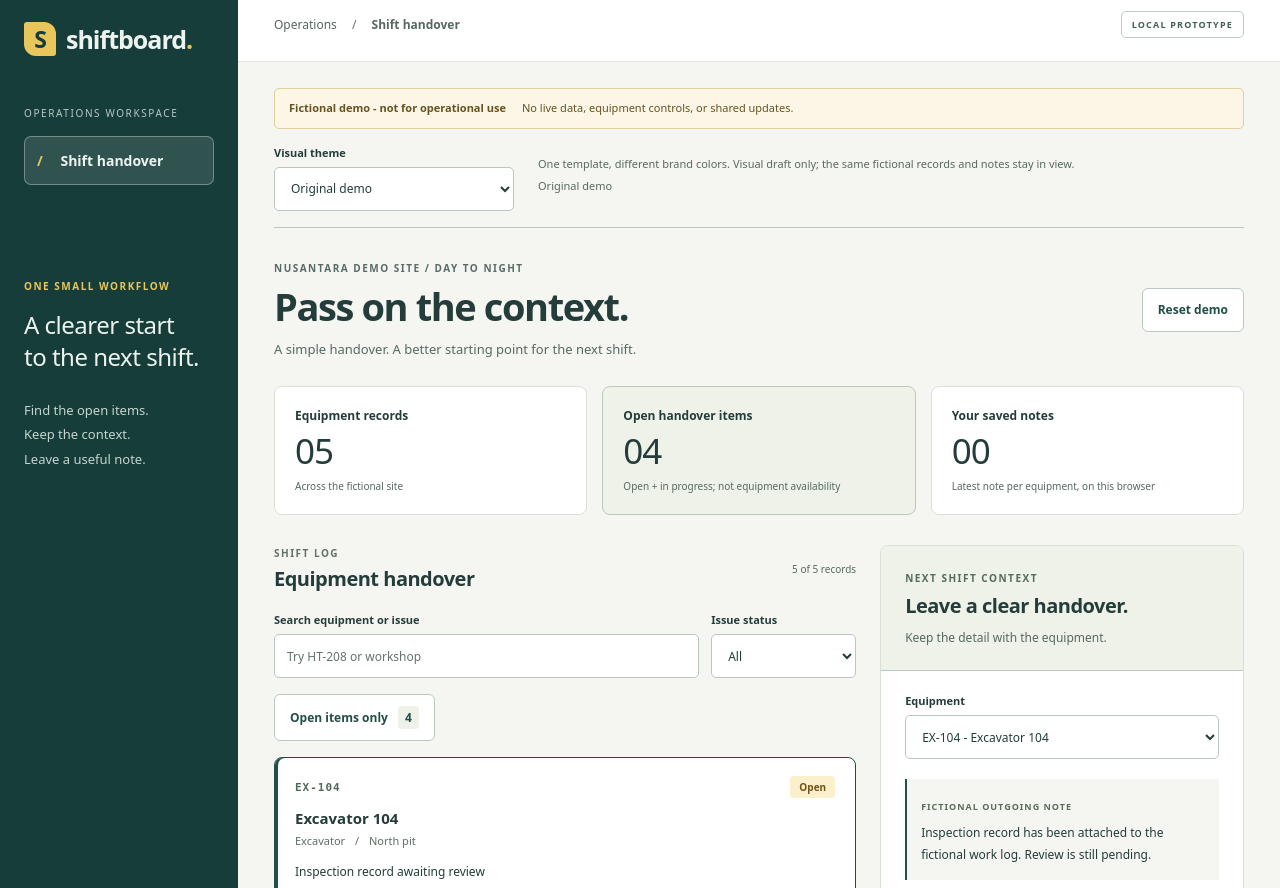
Test: equipment filtering › renders empty results and clears both filters
This screenshot has width=1280, height=888.
Select "Closed" in the dropdown labelled "Issue status" at coordinates (784, 656), box [711,634,856,678]
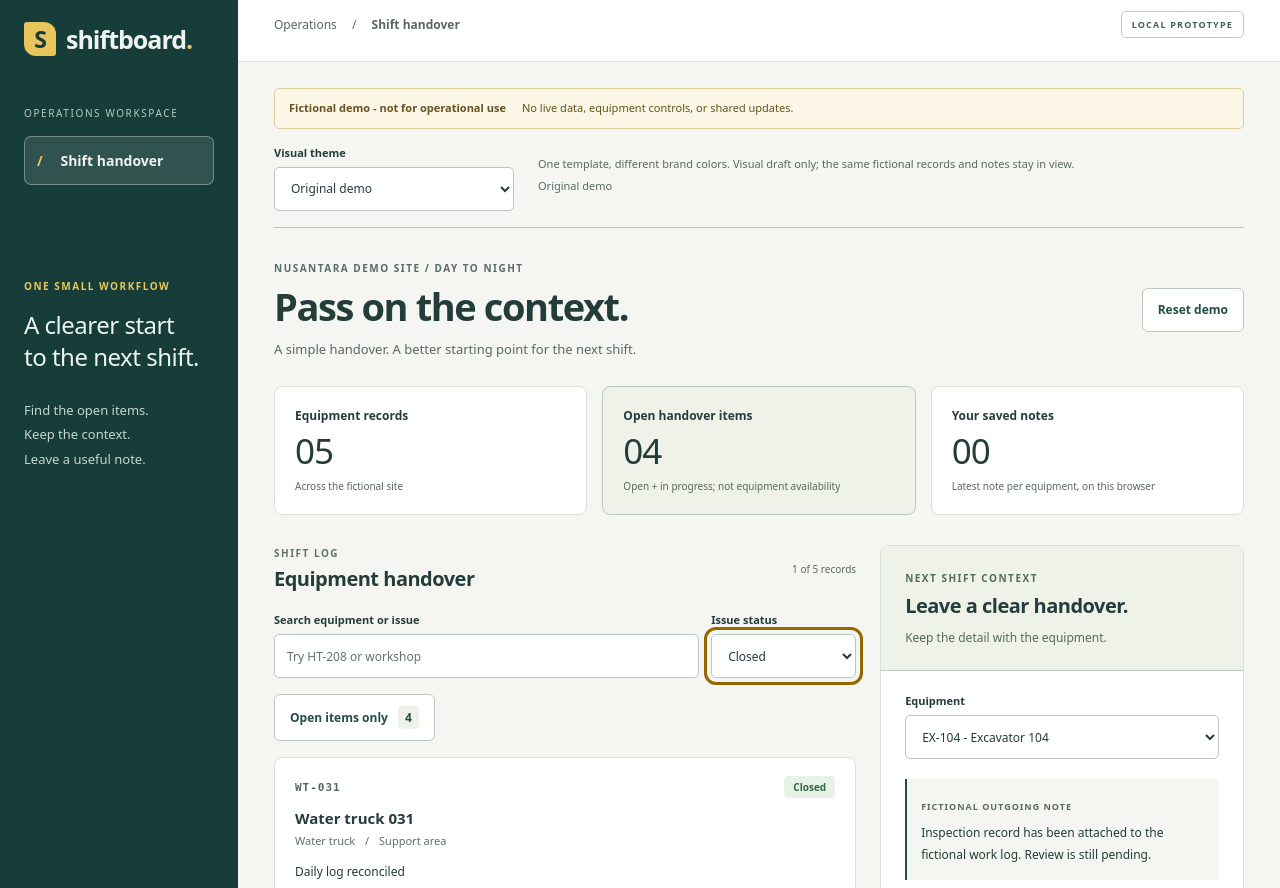
Type "HT-208" into the search field labelled "Search equipment or issue" at coordinates (487, 656), box [274,634,699,678]
(page scrolled)
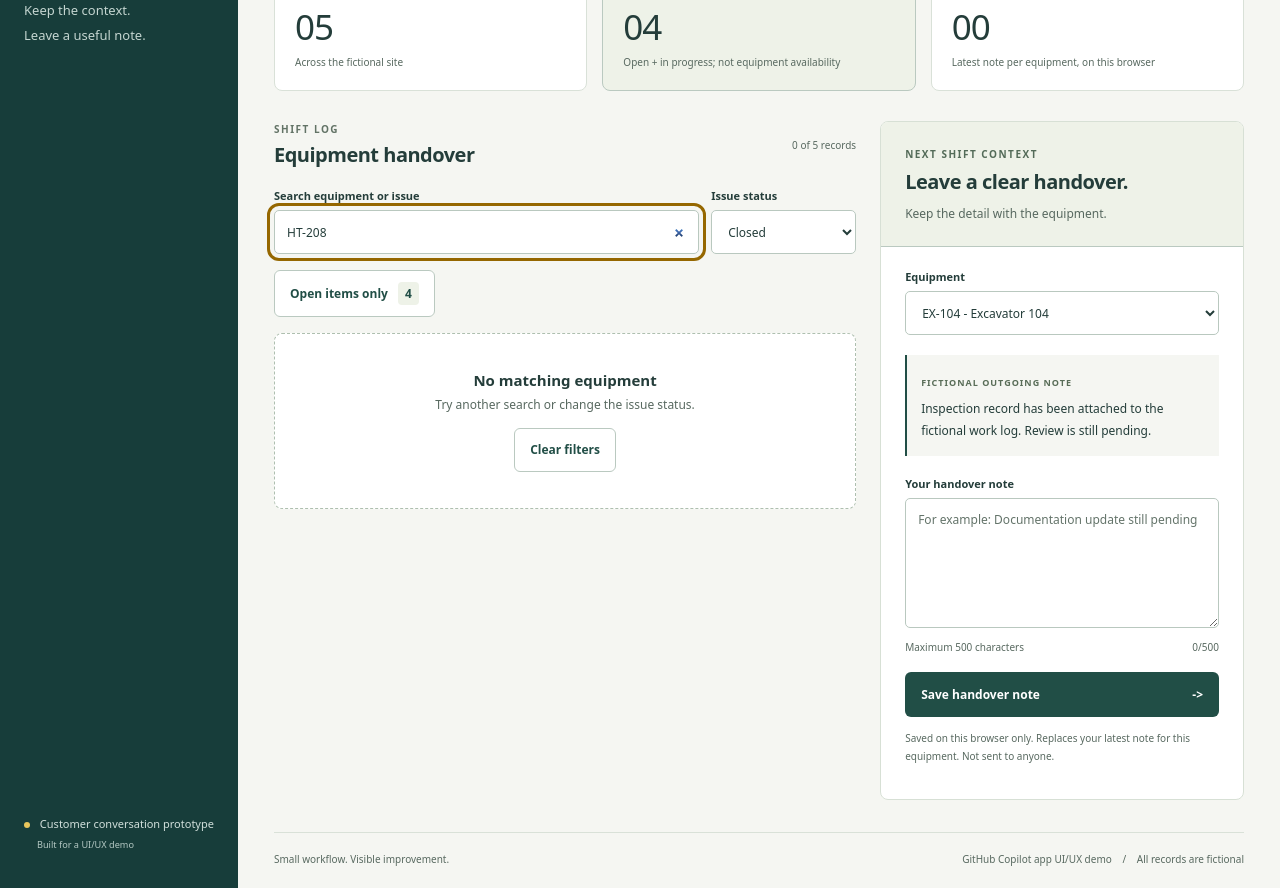
expect the heading "No matching equipment" is shown: met, box [473,370,657,390]
Click the button "Clear filters" at coordinates (565, 450), box [514,428,616,472]
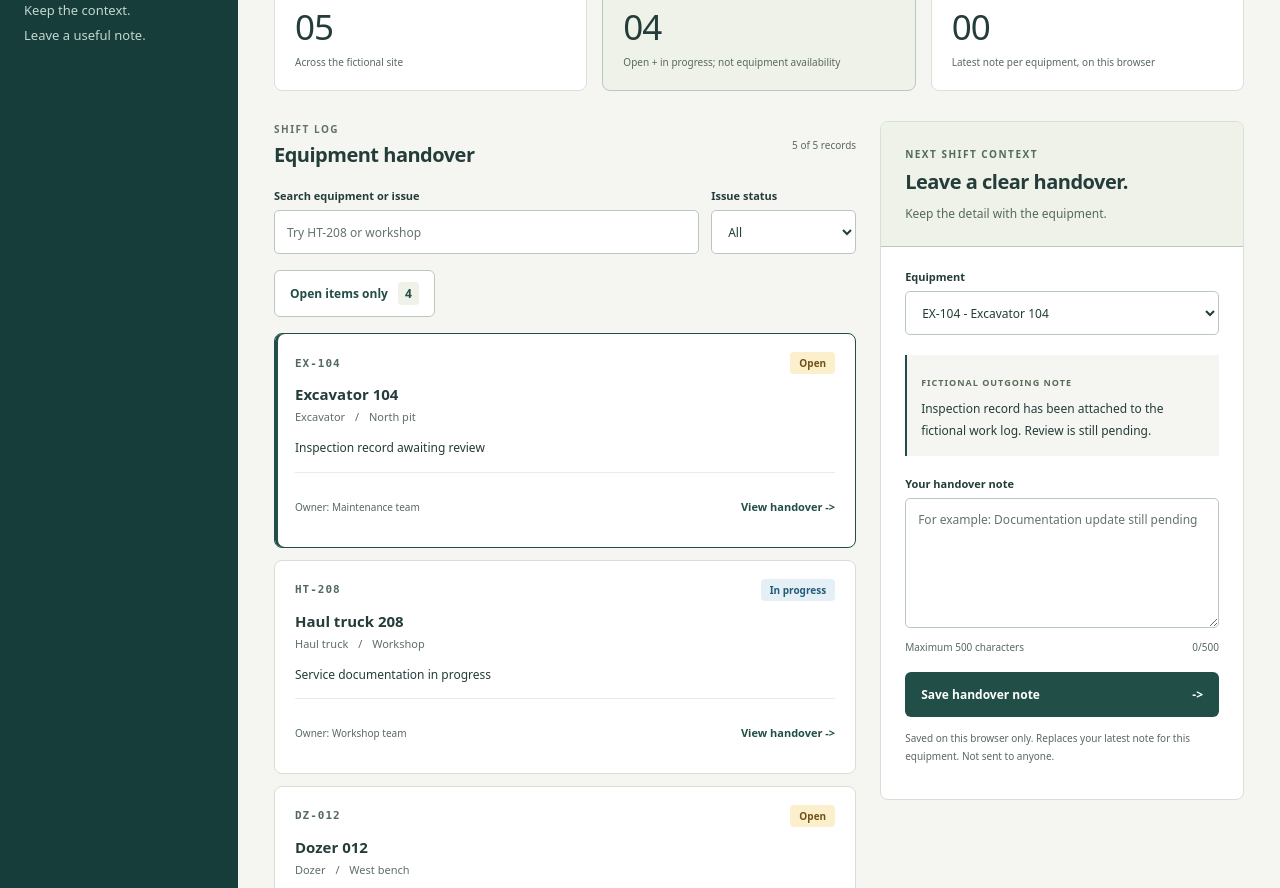
expect the search field labelled "Search equipment or issue" is empty: met, box [274,210,699,254]
